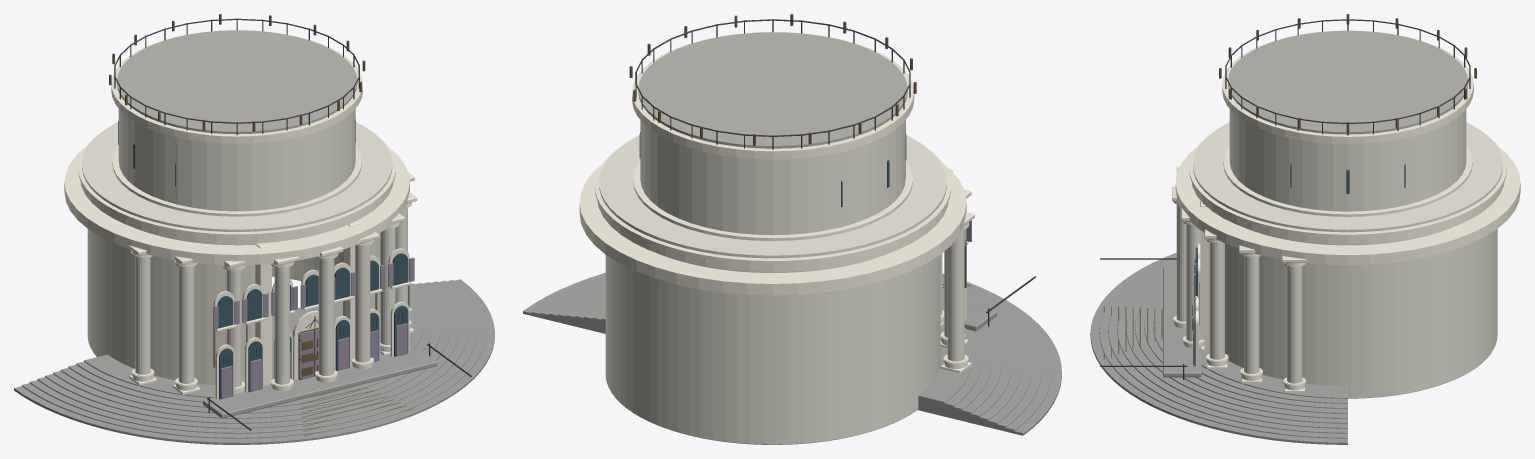
The model's file is rotunda.glb.
3 views of the same model, side by side, from view 1: azimuth 30°, elevation 25°; view 2: azimuth 150°, elevation 25°; view 3: azimuth 270°, elevation 25° (orthographic). The views are drawn at different scales.
Parts seen in each view (by area): view 1: LM_Rooftop_Weathered_Cap, LM_Rooftop_Drum, LM_Rotunda_OpenShell, LM_Rotunda_ParapetBand_Upper, LM_Portico_Entablature, LM_STAIRS_Rotunda_10, LM_Rotunda_Landing, LM_STAIRS_Rotunda_09, LM_STAIRS_Rotunda_08, LM_STAIRS_Rotunda_07, LM_Rooftop_Drum_Cornice_Upper, LM_STAIRS_Rotunda_06 (+24 smaller); view 2: LM_Rotunda_OpenShell, LM_Rooftop_Weathered_Cap, LM_Rooftop_Drum, LM_Portico_Entablature, LM_Rotunda_ParapetBand_Upper, LM_Rooftop_Drum_Cornice_Upper, LM_Rotunda_RoofBand, LM_Rotunda_ParapetBand_Lower, LM_STAIRS_Rotunda_10, LM_Rooftop_Drum_Cornice_Lower, LM_STAIRS_Rotunda_08, LM_STAIRS_Rotunda_09 (+10 smaller); view 3: LM_Rotunda_OpenShell, LM_Rooftop_Weathered_Cap, LM_Rooftop_Drum, LM_Portico_Entablature, LM_Rotunda_ParapetBand_Upper, LM_Rooftop_Drum_Cornice_Upper, LM_STAIRS_Rotunda_10, LM_STAIRS_Rotunda_09, LM_STAIRS_Rotunda_08, LM_Rotunda_Landing, LM_STAIRS_Rotunda_07, LM_Rotunda_ParapetBand_Lower (+15 smaller).
Part boxes in pixels (x1,y1,x2,y2): LM_Rooftop_Weathered_Cap: (116, 30, 357, 134); LM_Rooftop_Drum: (118, 109, 355, 211); LM_Rotunda_OpenShell: (87, 228, 380, 385); LM_Rotunda_ParapetBand_Upper: (82, 122, 392, 231); LM_Portico_Entablature: (64, 148, 409, 264); LM_STAIRS_Rotunda_10: (14, 279, 494, 444); LM_Rotunda_Landing: (203, 348, 437, 418); LM_STAIRS_Rotunda_09: (21, 280, 485, 438); LM_STAIRS_Rotunda_08: (29, 280, 476, 433); LM_STAIRS_Rotunda_07: (37, 281, 467, 428); LM_Rooftop_Drum_Cornice_Upper: (111, 30, 362, 143); LM_STAIRS_Rotunda_06: (45, 282, 458, 423); LM_Rotunda_OpenShell: (605, 253, 940, 444); LM_Rooftop_Weathered_Cap: (638, 32, 907, 148); LM_Rooftop_Drum: (640, 120, 905, 235); LM_Portico_Entablature: (579, 163, 966, 295); LM_Rotunda_ParapetBand_Upper: (599, 135, 946, 258); LM_Rooftop_Drum_Cornice_Upper: (632, 32, 914, 159); LM_Rotunda_RoofBand: (597, 202, 948, 271); LM_Rotunda_ParapetBand_Lower: (595, 148, 950, 263); LM_STAIRS_Rotunda_10: (523, 272, 1061, 435); LM_Rooftop_Drum_Cornice_Lower: (633, 161, 912, 240); LM_STAIRS_Rotunda_08: (540, 281, 1041, 428); LM_STAIRS_Rotunda_09: (531, 277, 1051, 430); LM_Rotunda_OpenShell: (1225, 228, 1497, 398); LM_Rooftop_Weathered_Cap: (1228, 30, 1468, 134); LM_Rooftop_Drum: (1229, 109, 1466, 211); LM_Portico_Entablature: (1175, 148, 1520, 265); LM_Rotunda_ParapetBand_Upper: (1193, 122, 1502, 232); LM_Rooftop_Drum_Cornice_Upper: (1222, 30, 1473, 144); LM_STAIRS_Rotunda_10: (1090, 252, 1347, 444); LM_STAIRS_Rotunda_09: (1099, 256, 1347, 438); LM_STAIRS_Rotunda_08: (1108, 261, 1347, 433); LM_Rotunda_Landing: (1163, 268, 1201, 377); LM_STAIRS_Rotunda_07: (1117, 265, 1347, 428); LM_Rotunda_ParapetBand_Lower: (1189, 135, 1506, 237).
Size of the model in its own units: 41.36 by 23.72 by 34.53.
